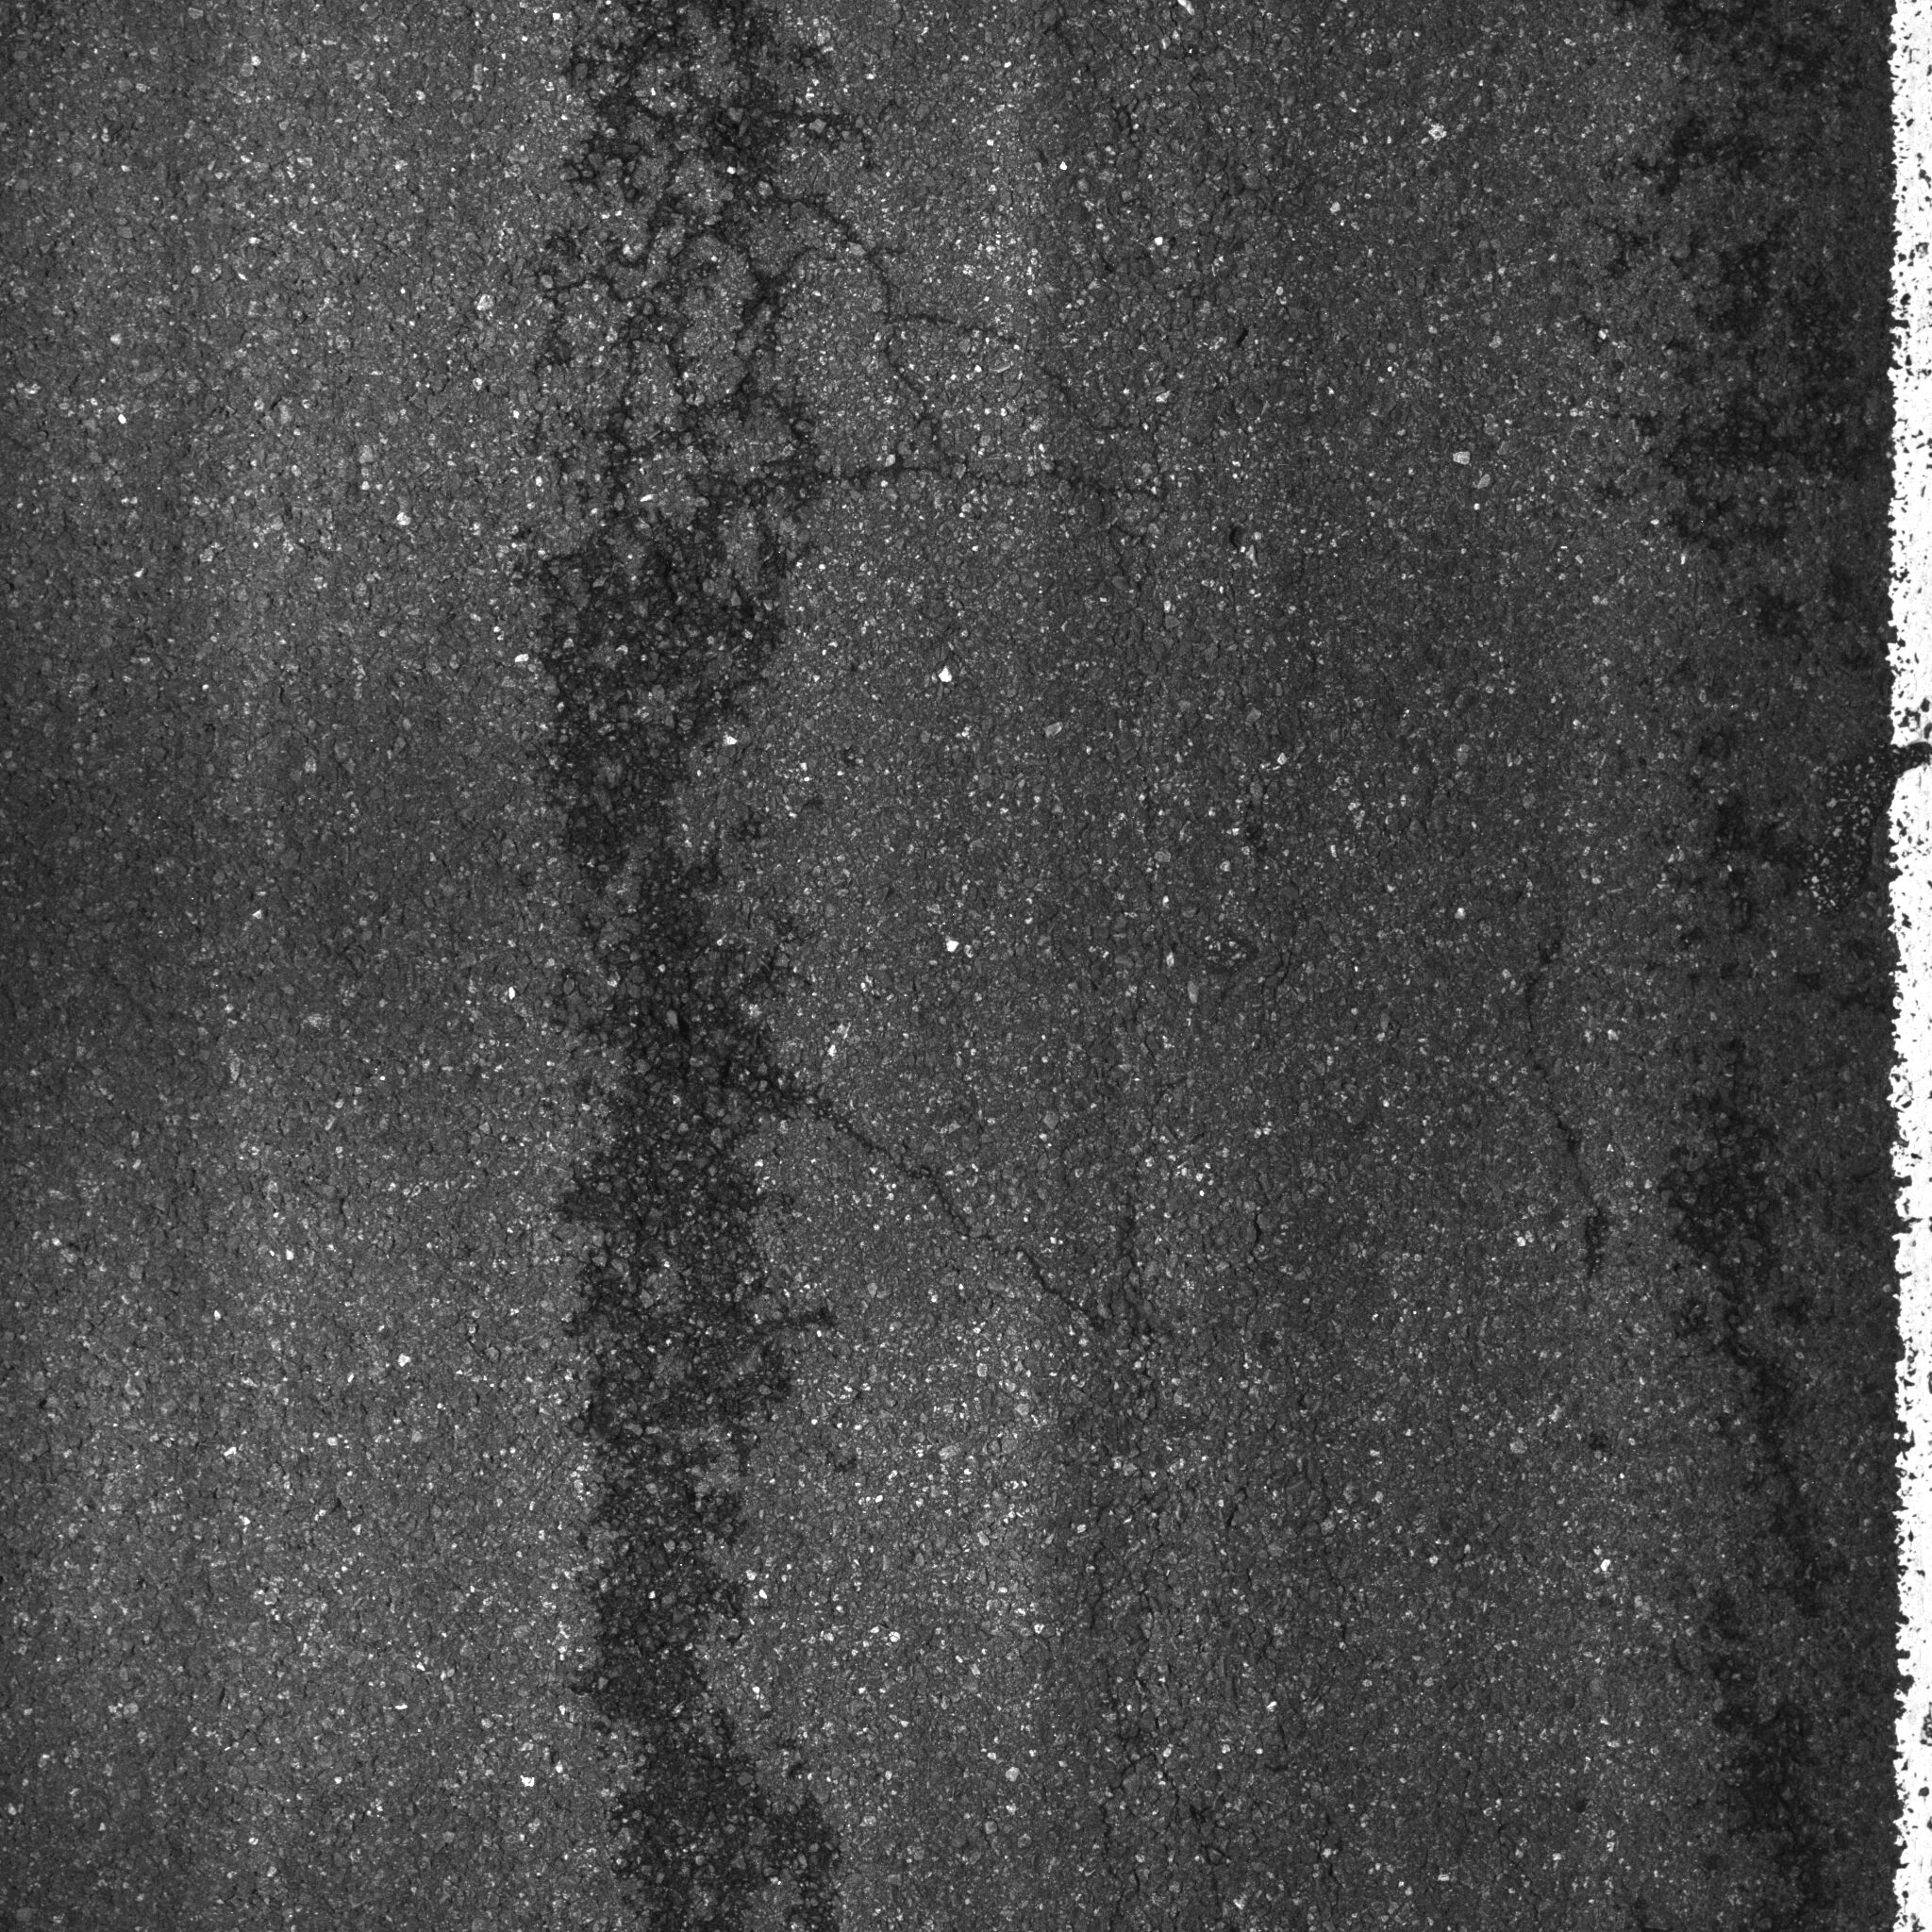alligator: (474, 9, 1111, 1932)
